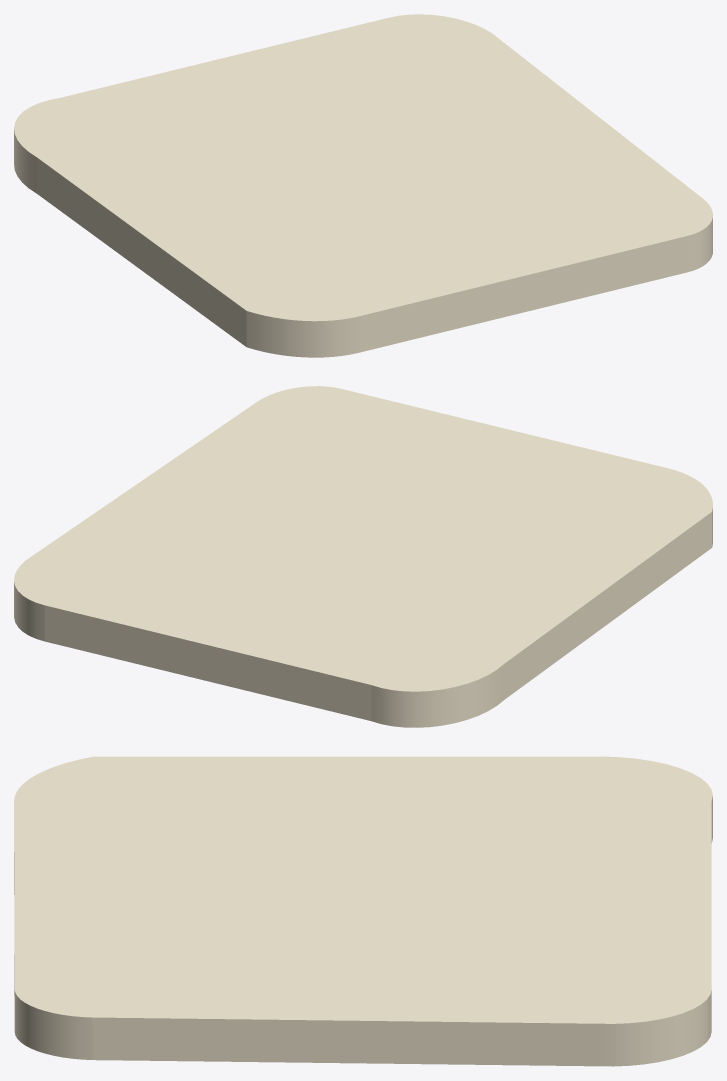
The model's file is original-52.obj.
The picture shows the model from 3 angles, top to bottom: view 1: azimuth 30°, elevation 25°; view 2: azimuth 150°, elevation 25°; view 3: azimuth 270°, elevation 25°; orthographic projection. The views are drawn at different scales.
Visible parts, largest first — view 1: tecla1_50/tecla1/mesh6/mesh6-geometry#mesh6-geometry; view 2: tecla1_50/tecla1/mesh6/mesh6-geometry#mesh6-geometry; view 3: tecla1_50/tecla1/mesh6/mesh6-geometry#mesh6-geometry.
Part boxes in pixels (box(x1,y1,x2,y2)): tecla1_50/tecla1/mesh6/mesh6-geometry#mesh6-geometry: box(14, 14, 712, 357); tecla1_50/tecla1/mesh6/mesh6-geometry#mesh6-geometry: box(14, 386, 712, 727); tecla1_50/tecla1/mesh6/mesh6-geometry#mesh6-geometry: box(14, 756, 712, 1066).
Bounding box in the file's own units: 0.0535 × 0.00397 × 0.0591.
